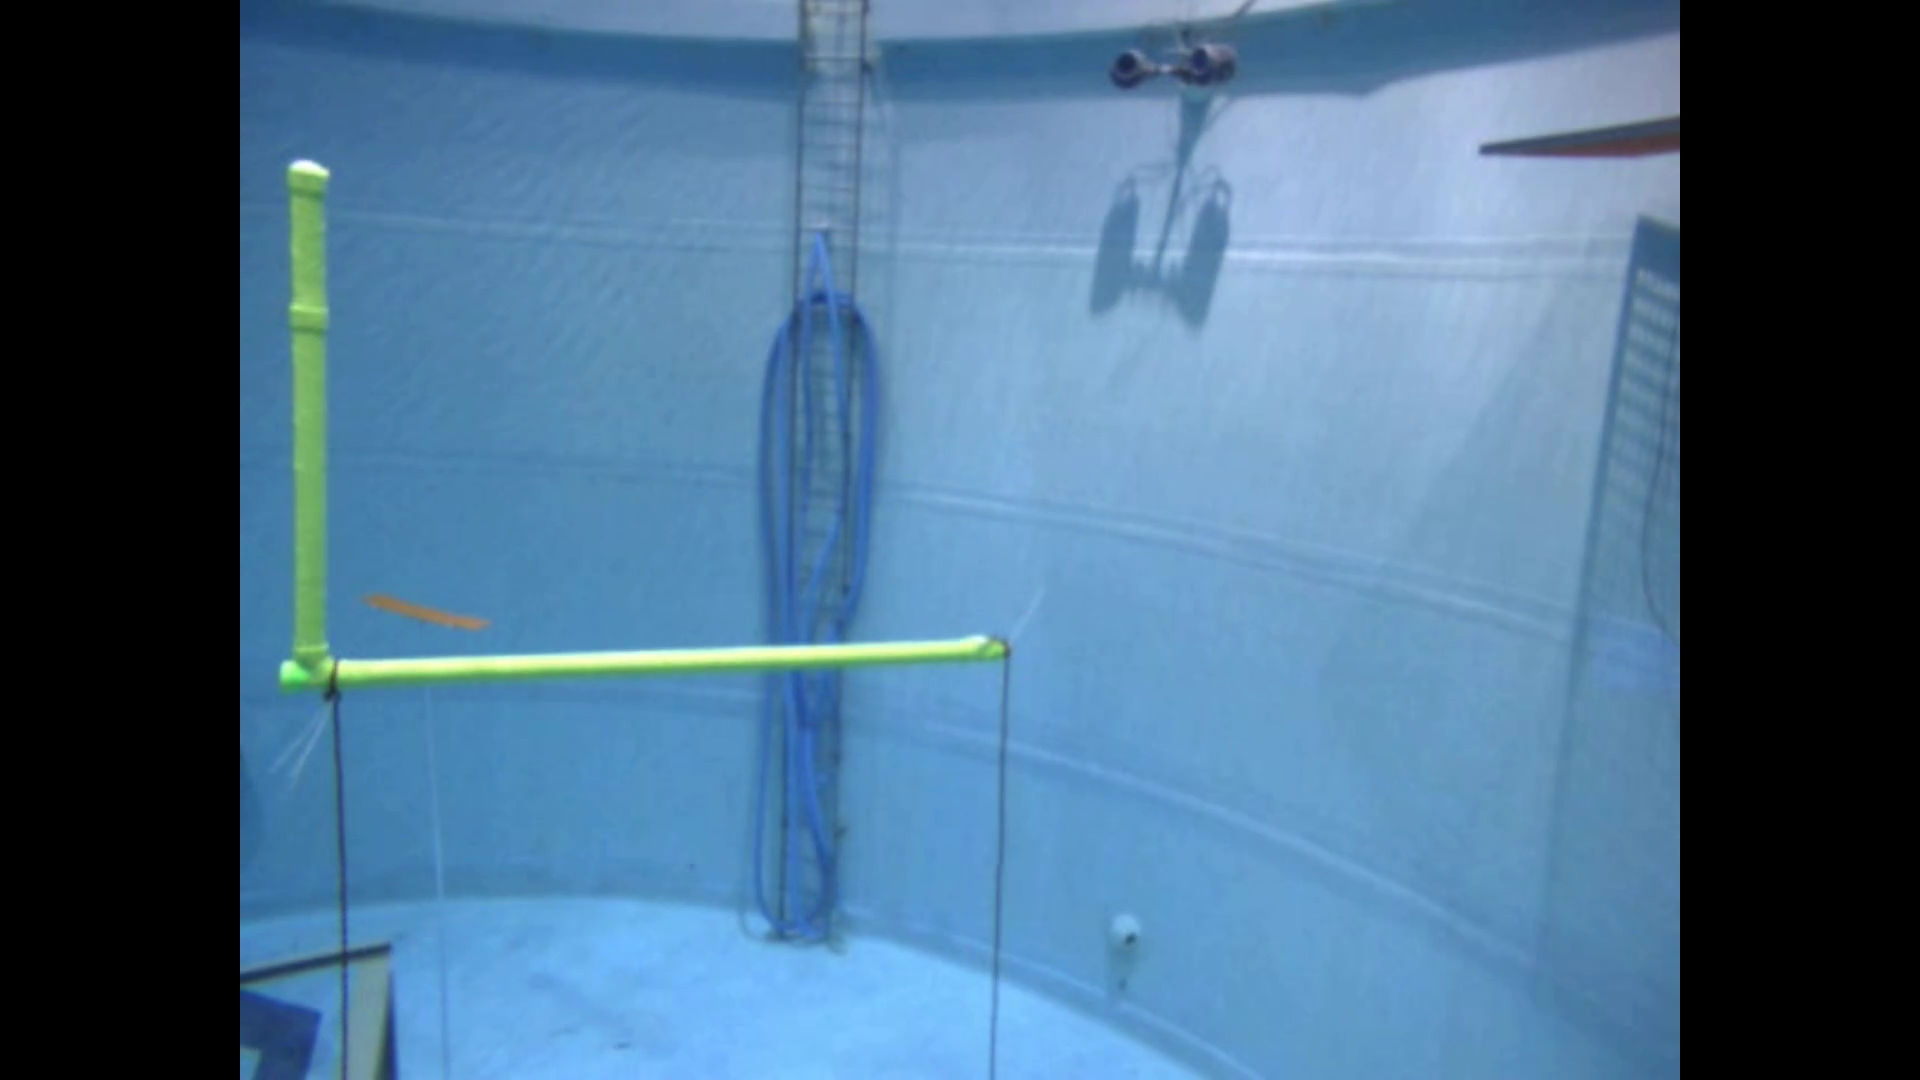gate: (284, 160, 1006, 687)
